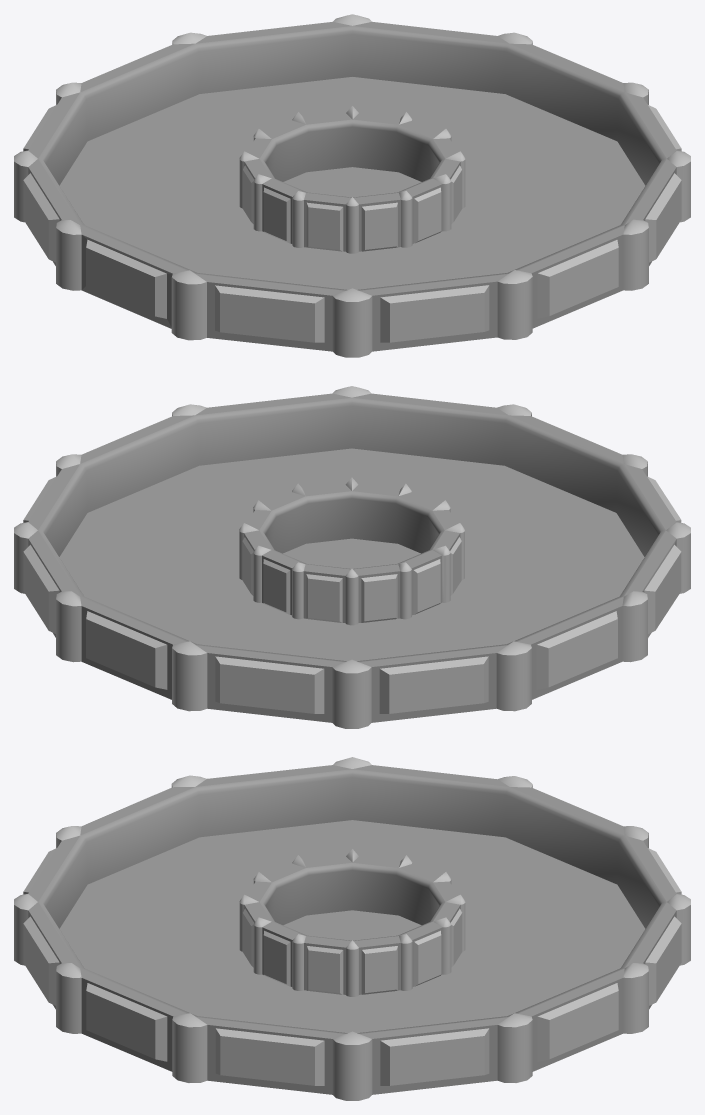
File: PoolsNFountains.fbx
The picture shows the model from 3 angles, top to bottom: view 1: azimuth 30°, elevation 25°; view 2: azimuth 150°, elevation 25°; view 3: azimuth 270°, elevation 25°; orthographic projection.
Parts seen in each view (by area): view 1: LargePool, SamllPool; view 2: LargePool, SamllPool; view 3: LargePool, SamllPool.
Part boxes in pixels (<box>): LargePool: <box>14,14,690,357</box>; SamllPool: <box>239,106,465,253</box>; LargePool: <box>14,386,690,728</box>; SamllPool: <box>239,477,464,625</box>; LargePool: <box>14,757,690,1100</box>; SamllPool: <box>239,849,465,996</box>.
Size of what is drawn, in the model's own units: 9.31 by 0.9745 by 9.31.
